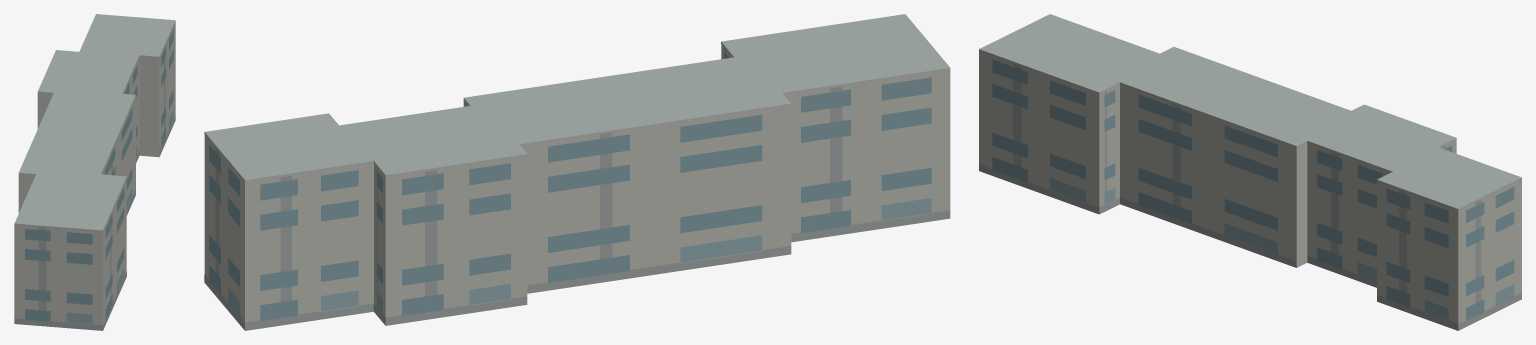
Rendered from residential-5eb4544d-3ddf-49ad-a4f8-ea7d57a149ef.glb.
3 renders of one model, left to right at view 1: azimuth 30°, elevation 25°; view 2: azimuth 150°, elevation 25°; view 3: azimuth 270°, elevation 25°, orthographic. The views are drawn at different scales.
Visible parts, largest first — view 1: residential-5eb4544d-3ddf-49ad-a4f8-ea7d57a149ef.tmp; view 2: residential-5eb4544d-3ddf-49ad-a4f8-ea7d57a149ef.tmp; view 3: residential-5eb4544d-3ddf-49ad-a4f8-ea7d57a149ef.tmp.
Boxes of the visible parts, box(x1,y1,x2,y2) form: residential-5eb4544d-3ddf-49ad-a4f8-ea7d57a149ef.tmp: box(14, 14, 175, 330); residential-5eb4544d-3ddf-49ad-a4f8-ea7d57a149ef.tmp: box(204, 14, 950, 330); residential-5eb4544d-3ddf-49ad-a4f8-ea7d57a149ef.tmp: box(979, 14, 1521, 330).
Bounding box in the file's own units: 52.3 × 15.25 × 61.54.
